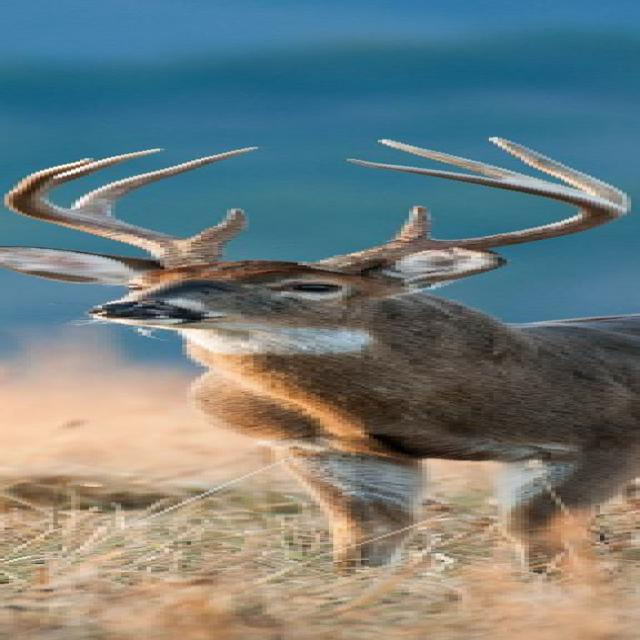L-F: (298, 158, 630, 275)
L-G1: (379, 205, 442, 246)
L-G2: (486, 135, 632, 209)
L-G3: (371, 138, 622, 207)
R-F: (1, 158, 223, 270)
R-G1: (181, 208, 249, 246)
R-G2: (69, 146, 262, 220)
R-G3: (48, 148, 166, 191)
